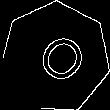O_SW: (23, 24, 87, 91)
